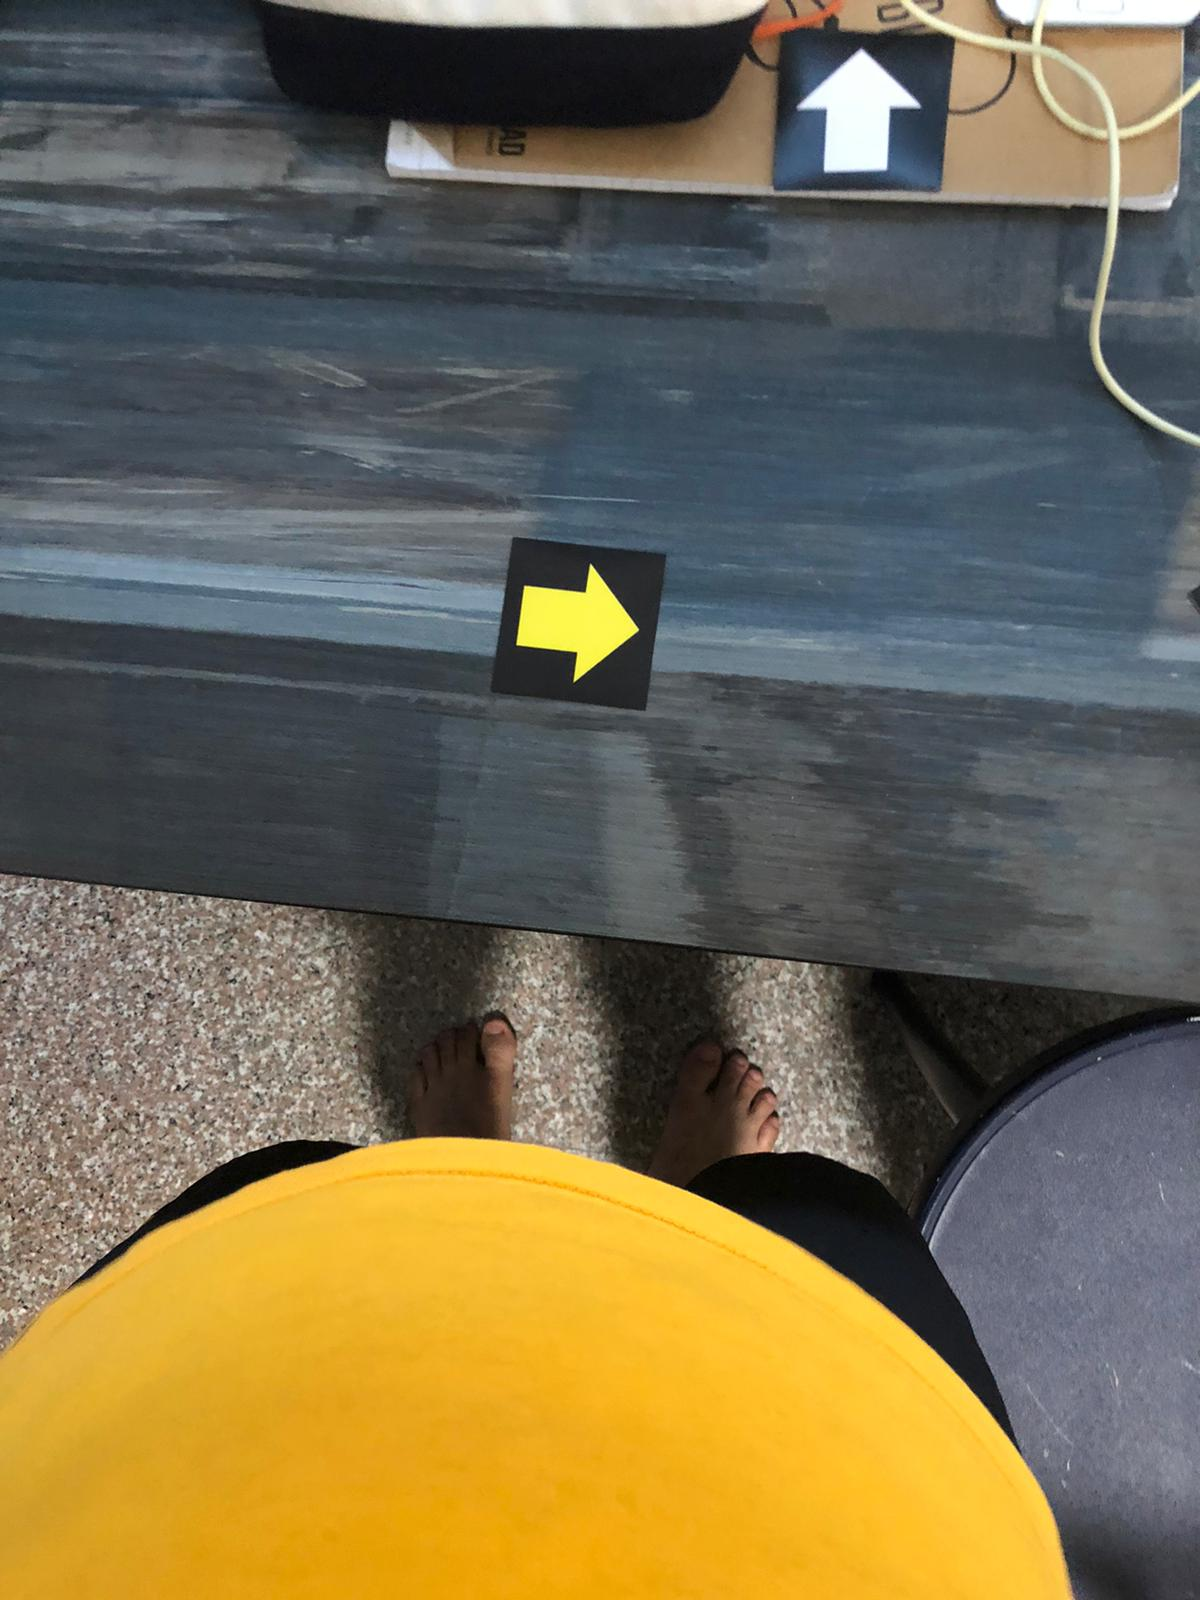Right Arrow: (511, 540, 653, 708)
